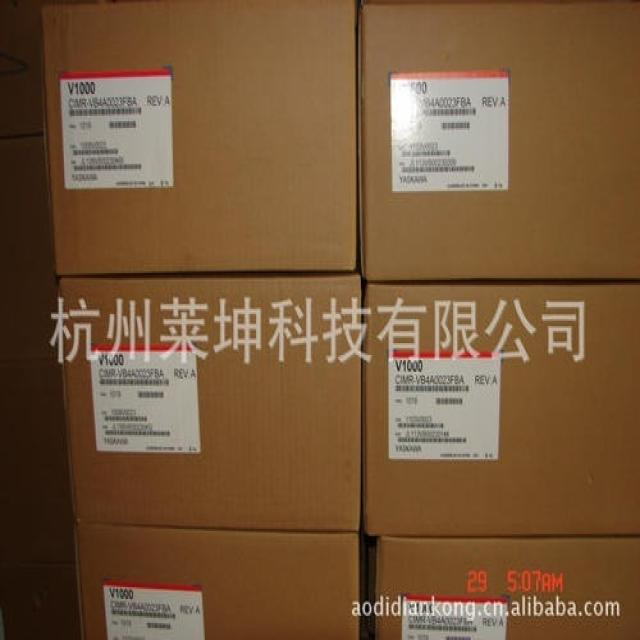box: (42, 2, 357, 274), (359, 2, 639, 281), (59, 276, 361, 533), (365, 282, 639, 536), (76, 524, 358, 638), (369, 535, 639, 638)
